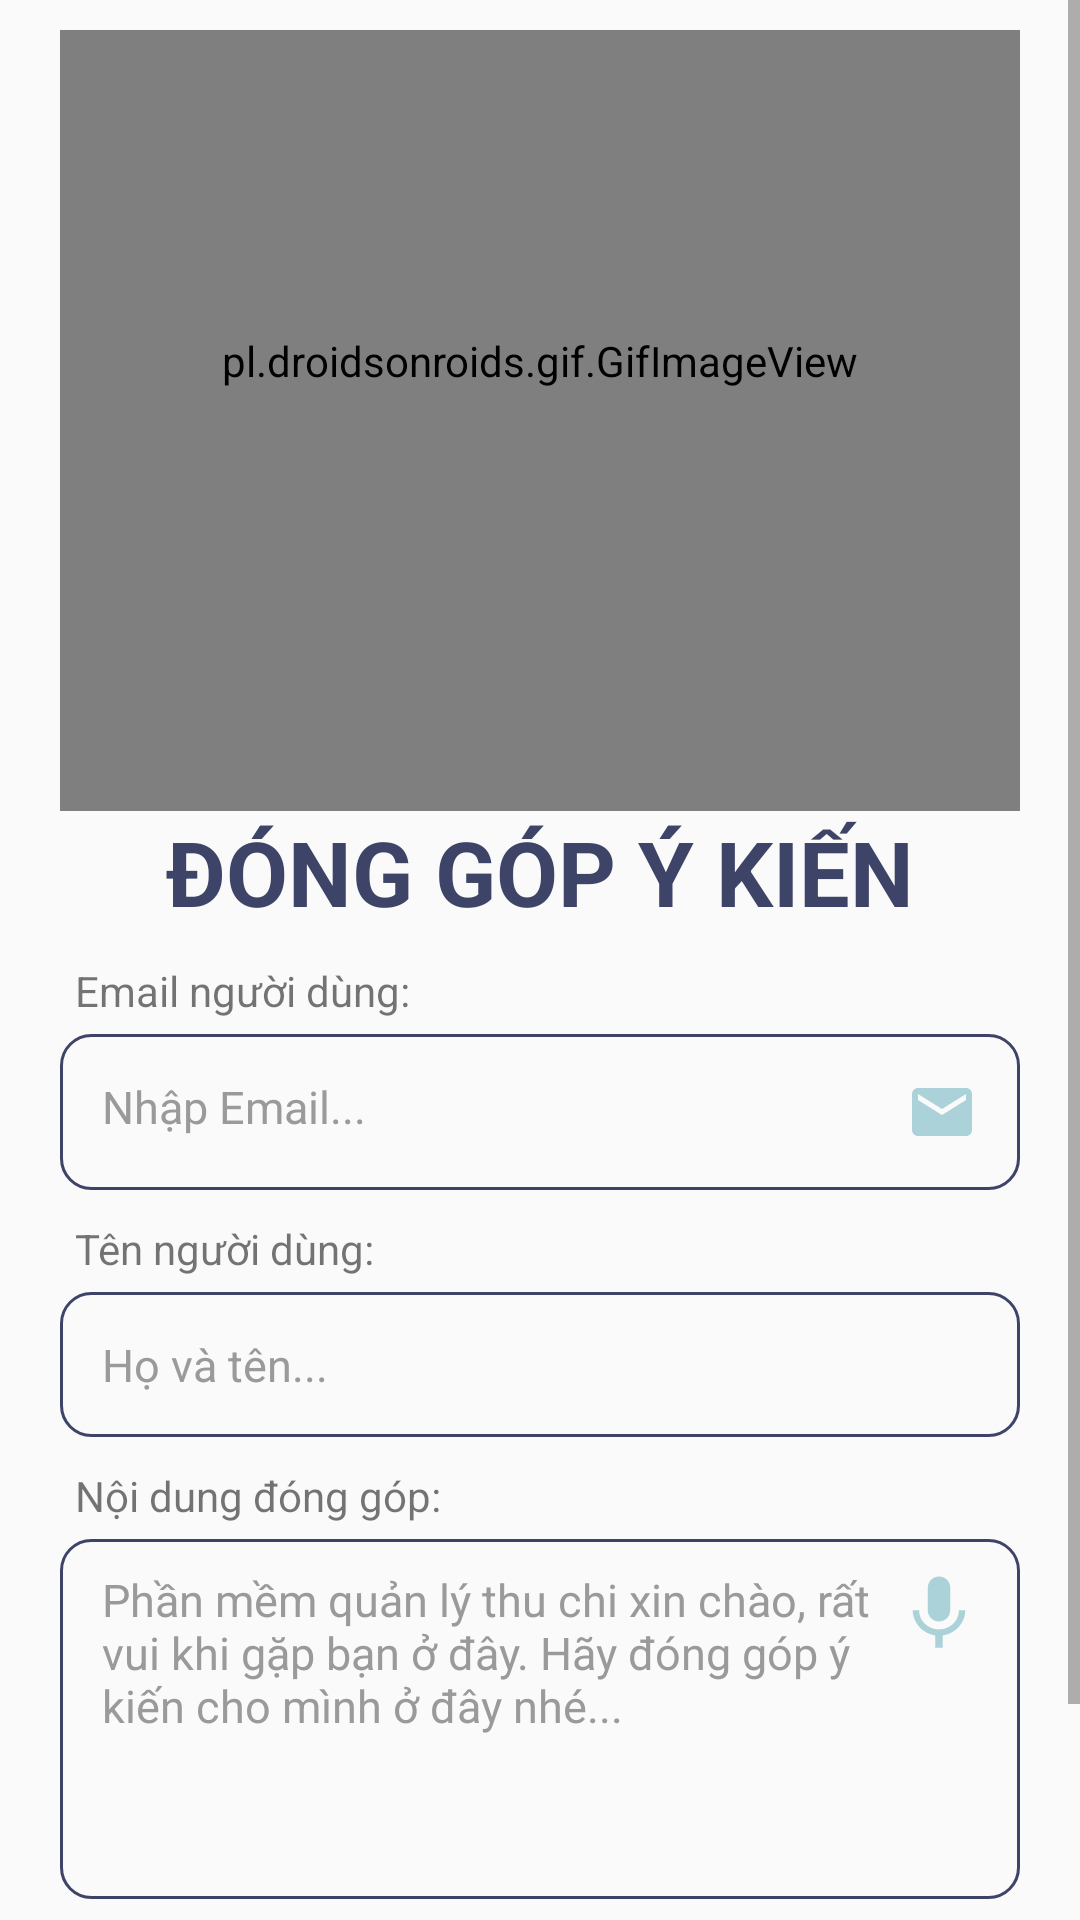

Named icons in this screenshot (1080w x 1920h) and their bounding boxes, (x1, y1, x2, y2):
mic: (913, 1576, 965, 1648)
